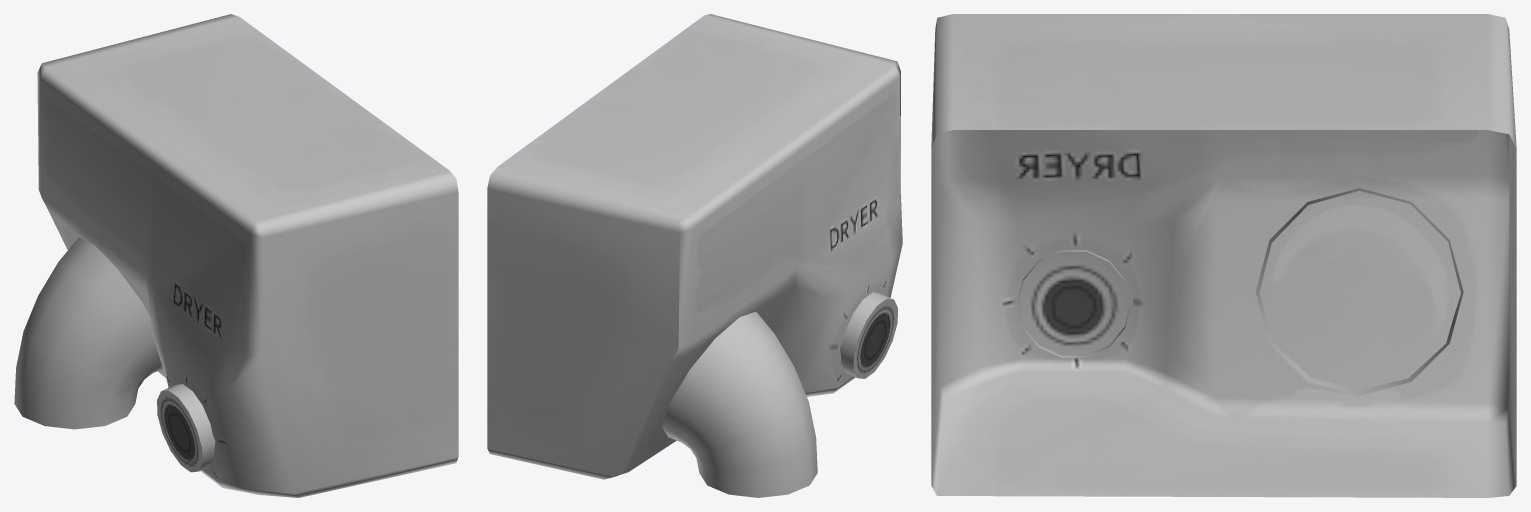
File: MB_Hand_Dryer.fbx
The picture shows the model from 3 angles, left to right: view 1: azimuth 30°, elevation 25°; view 2: azimuth 150°, elevation 25°; view 3: azimuth 270°, elevation 25°; orthographic projection. The views are drawn at different scales.
Visible parts, largest first — view 1: MB_Hand_Dryer_LOD0; view 2: MB_Hand_Dryer_LOD0; view 3: MB_Hand_Dryer_LOD0.
Boxes of the visible parts, bbox=[...] form: MB_Hand_Dryer_LOD0: bbox=[14, 14, 458, 497]; MB_Hand_Dryer_LOD0: bbox=[487, 14, 902, 497]; MB_Hand_Dryer_LOD0: bbox=[931, 14, 1516, 497].
Size of what is drawn, in the model's own units: 17.79 by 18.9 by 26.5.
